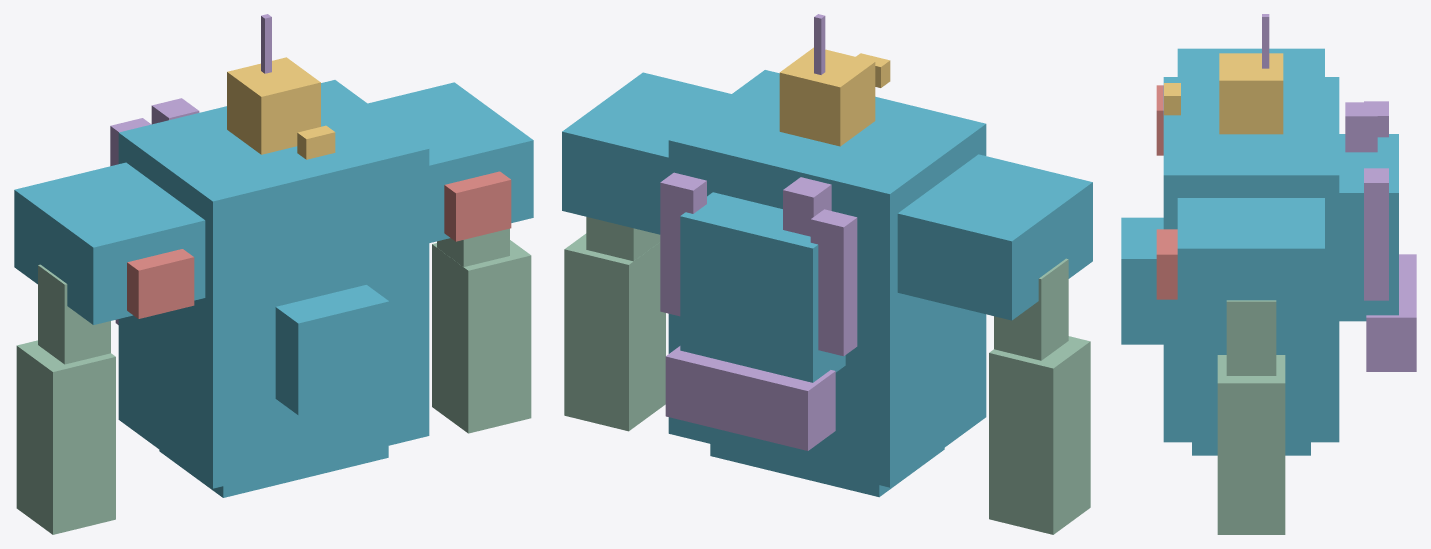
The model's file is mechfall_northstar.glb.
3 views of the same model, side by side, from view 1: azimuth 30°, elevation 25°; view 2: azimuth 150°, elevation 25°; view 3: azimuth 270°, elevation 25° (orthographic). The views are drawn at different scales.
Parts seen in each view (by area): view 1: TORSO HULL, SHOULDER L, FOREARM L, FOREARM R, REACTOR CORE, SHOULDER R, COCKPIT CANOPY, UPPER ARM L, WEAPON MOUNT L, WEAPON MOUNT R, HIP ASSEMBLY, UPPER ARM R (+4 smaller); view 2: TORSO HULL, SHOULDER L, EW BACKPACK, FOREARM L, FOREARM R, SHOULDER R, COCKPIT CANOPY, RADIATOR L, THRUSTER 1, UPPER ARM L, RADIATOR R, THRUSTER 4 (+6 smaller); view 3: TORSO HULL, SHOULDER R, FOREARM R, EW BACKPACK, COCKPIT CANOPY, REACTOR CORE, UPPER ARM R, RADIATOR R, THRUSTER 4, SHOULDER L, JUMP JET 1, WEAPON MOUNT R (+6 smaller).
Part boxes in pixels (bbox=[...]): TORSO HULL: bbox=[118, 80, 429, 488]; SHOULDER L: bbox=[14, 162, 205, 324]; FOREARM L: bbox=[16, 340, 115, 534]; FOREARM R: bbox=[432, 240, 531, 433]; REACTOR CORE: bbox=[275, 285, 389, 415]; SHOULDER R: bbox=[368, 82, 533, 242]; COCKPIT CANOPY: bbox=[227, 57, 320, 154]; UPPER ARM L: bbox=[38, 264, 110, 364]; WEAPON MOUNT L: bbox=[127, 249, 194, 318]; WEAPON MOUNT R: bbox=[444, 171, 511, 241]; HIP ASSEMBLY: bbox=[159, 446, 388, 497]; UPPER ARM R: bbox=[437, 228, 509, 266]; TORSO HULL: bbox=[668, 70, 986, 487]; SHOULDER L: bbox=[897, 154, 1092, 320]; EW BACKPACK: bbox=[680, 192, 845, 382]; FOREARM L: bbox=[989, 336, 1090, 534]; FOREARM R: bbox=[564, 233, 665, 431]; SHOULDER R: bbox=[562, 72, 731, 234]; COCKPIT CANOPY: bbox=[779, 47, 875, 146]; RADIATOR L: bbox=[810, 209, 857, 356]; THRUSTER 1: bbox=[765, 370, 835, 450]; UPPER ARM L: bbox=[994, 258, 1068, 360]; RADIATOR R: bbox=[660, 172, 706, 316]; THRUSTER 4: bbox=[665, 346, 717, 426]; TORSO HULL: bbox=[1163, 77, 1339, 442]; SHOULDER R: bbox=[1177, 198, 1324, 320]; FOREARM R: bbox=[1217, 355, 1285, 534]; EW BACKPACK: bbox=[1339, 134, 1398, 321]; COCKPIT CANOPY: bbox=[1219, 53, 1283, 134]; REACTOR CORE: bbox=[1121, 217, 1163, 344]; UPPER ARM R: bbox=[1226, 300, 1276, 375]; RADIATOR R: bbox=[1364, 168, 1388, 300]; THRUSTER 4: bbox=[1366, 302, 1416, 371]; SHOULDER L: bbox=[1177, 48, 1324, 76]; JUMP JET 1: bbox=[1345, 102, 1377, 152]; WEAPON MOUNT R: bbox=[1156, 229, 1177, 299].
Size of the model in its own units: 4.13 by 3.64 by 2.37.
